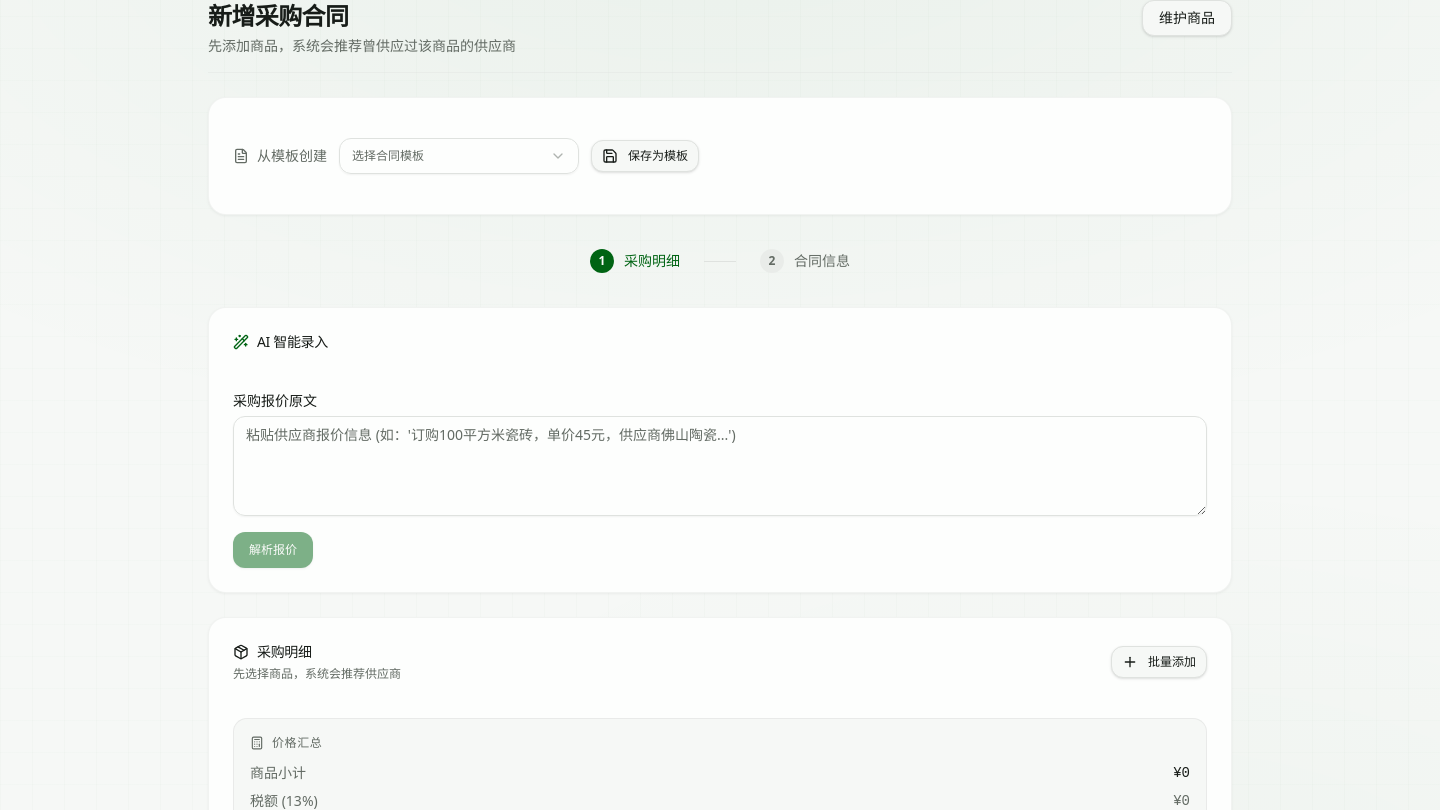
Test case: CreatePurchasePage 交互逻辑 › 顶部前进也校验明细，错误留在采购明细步骤
Click the button "2 合同信息" at (805, 261), box [744,239,866,283]
(page scrolled)
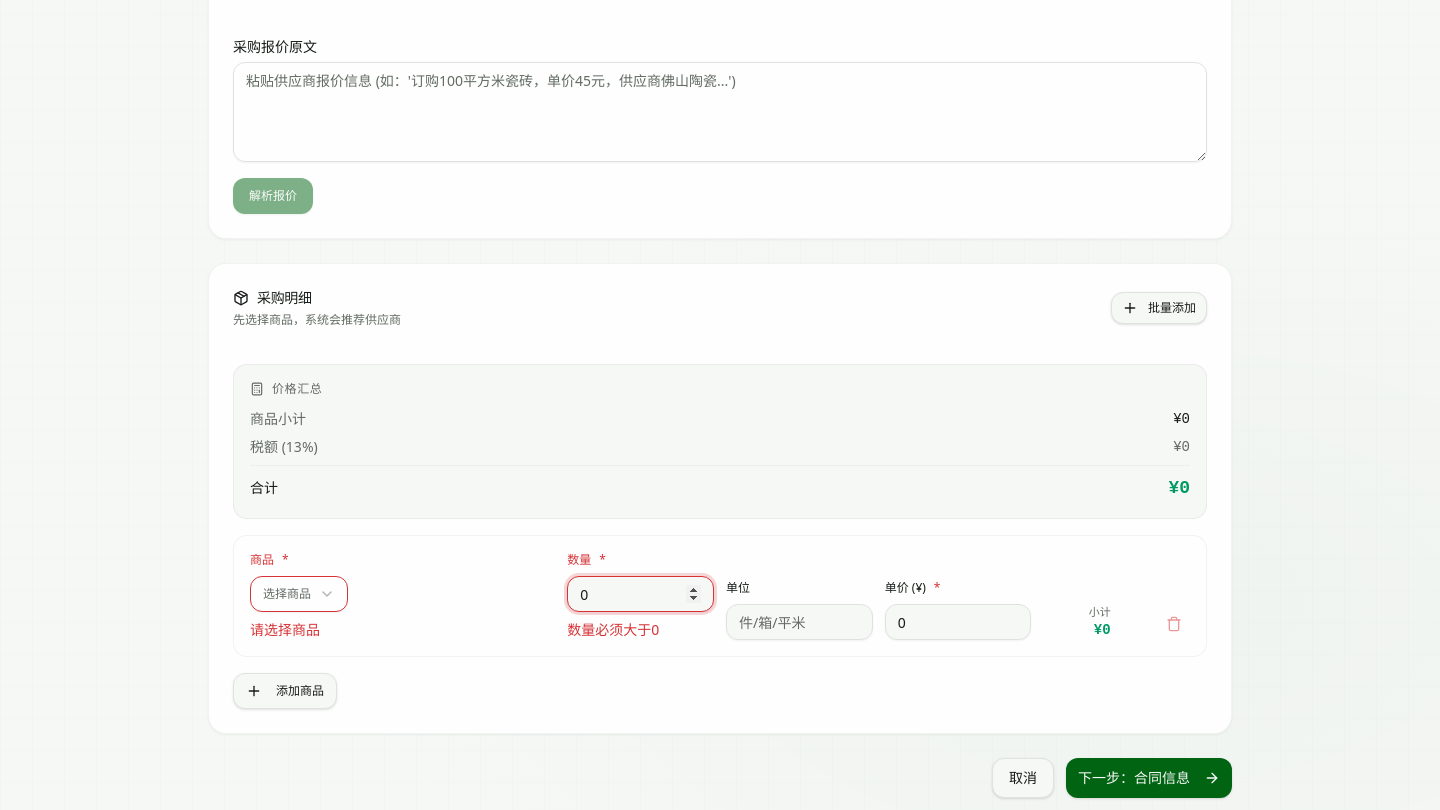
Expected: the text "请选择商品" is shown, [250,620,320,639]
